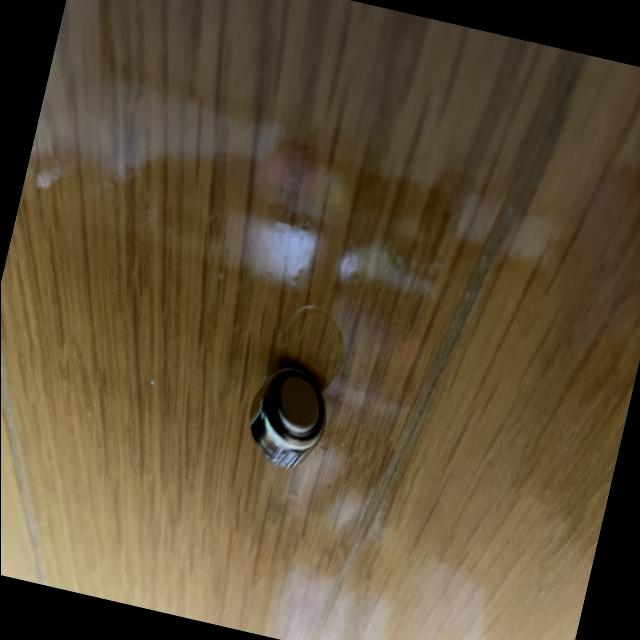COIN: (237, 356, 337, 474)
